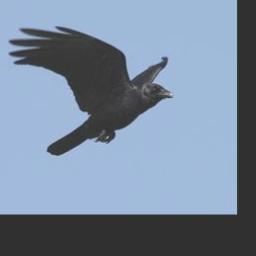Crow: (7, 23, 175, 156)
